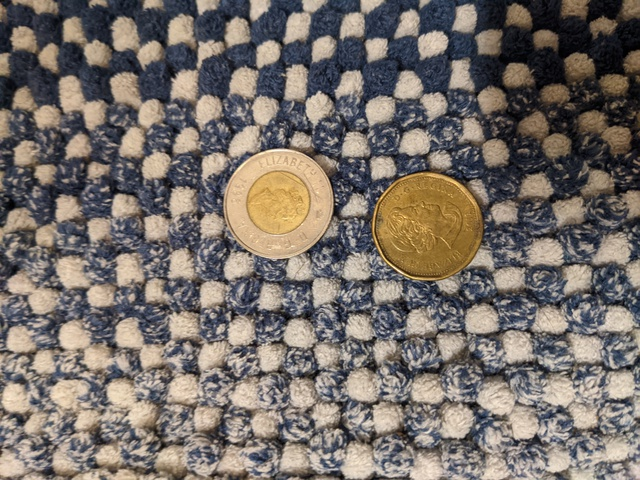loonie: (374, 164, 492, 297)
twonie: (222, 148, 347, 260)
